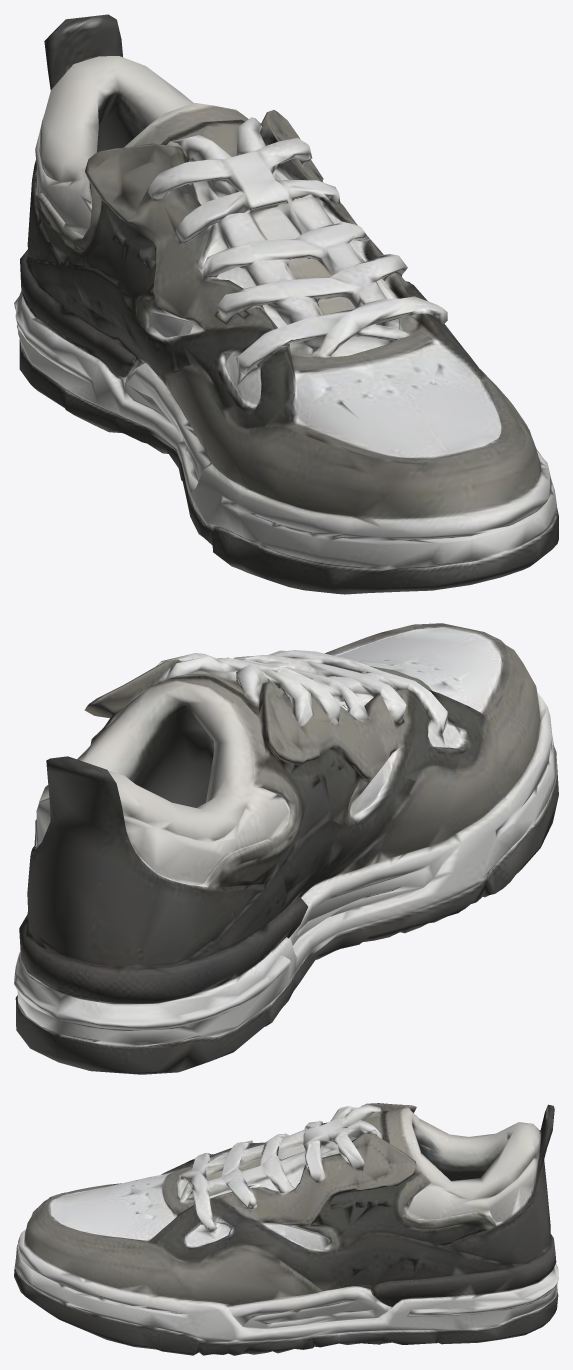
The model's file is mens-grey-casual-sneakers-1.glb.
3 renders of one model, top to bottom at view 1: azimuth 30°, elevation 25°; view 2: azimuth 150°, elevation 25°; view 3: azimuth 270°, elevation 25°, orthographic. The views are drawn at different scales.
Parts seen in each view (by area): view 1: tripo_node_dd1fe66b-db4f-4548-b96f-3b73170f8735; view 2: tripo_node_dd1fe66b-db4f-4548-b96f-3b73170f8735; view 3: tripo_node_dd1fe66b-db4f-4548-b96f-3b73170f8735.
Boxes of the visible parts, x1,y1,x2,y2 form: tripo_node_dd1fe66b-db4f-4548-b96f-3b73170f8735: [14, 14, 558, 594]; tripo_node_dd1fe66b-db4f-4548-b96f-3b73170f8735: [14, 623, 558, 1074]; tripo_node_dd1fe66b-db4f-4548-b96f-3b73170f8735: [14, 1103, 558, 1355].
Bounding box in the file's own units: 0.4081 × 0.4052 × 0.9973.
1 material, 1 textured.
